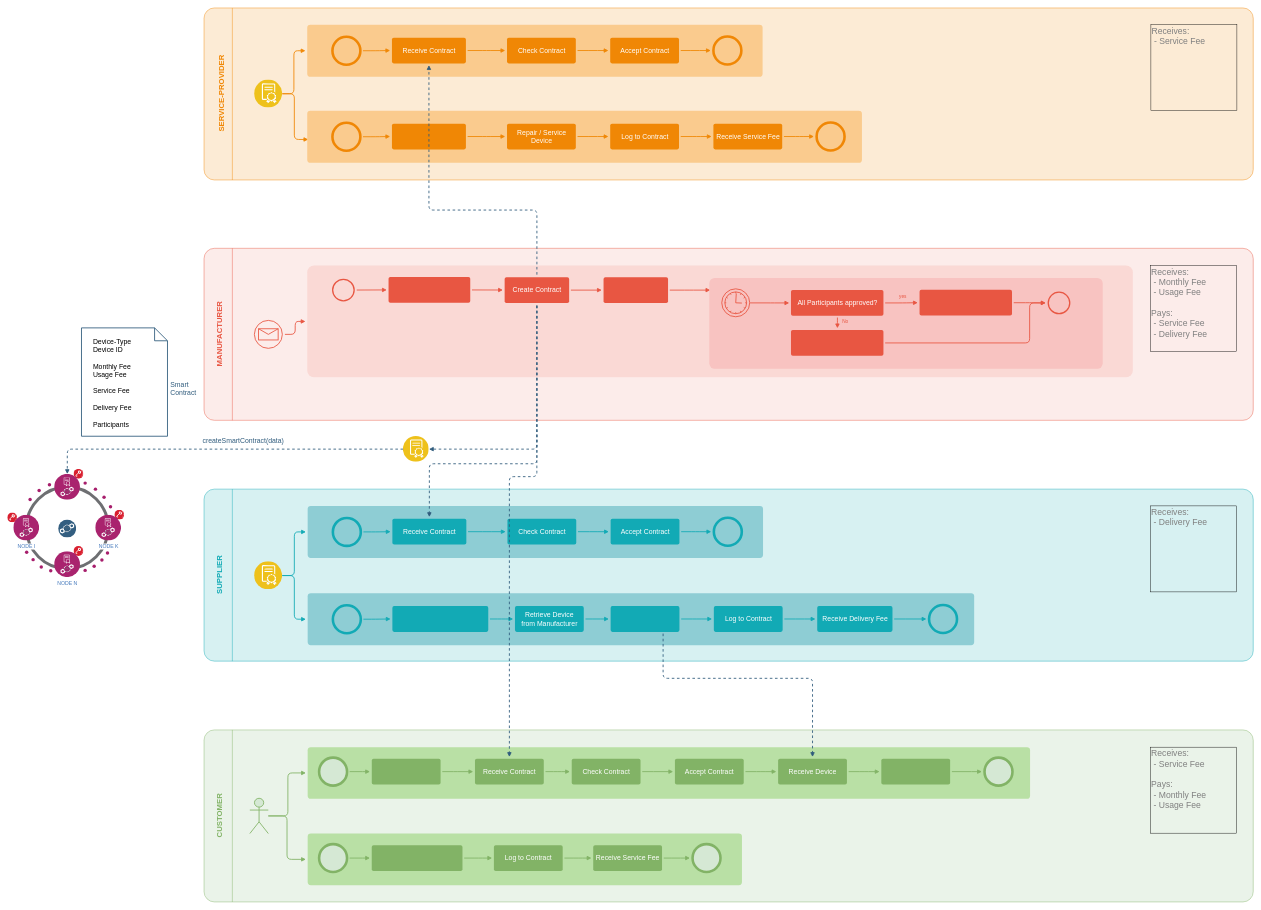
This 1261x910 diagram has some shape labels left out. The centre of each missing label's shape, as x and y in pixels:
Check Approvals: point 635,290
Clean Device Periodically Make small Services: point 417,858
Delete Contract: point 837,343
Deliver Device to Customer: point 644,619
LEDGER: point 67,529
NODE J: point 67,487
Pay Monthly Fee: point 915,771
Receive Delivery Request: point 440,619
Receive Monthly Fee: point 965,302
Receive Order: point 429,136
Receive Rental Request: point 429,290
Request Rental: point 406,771
